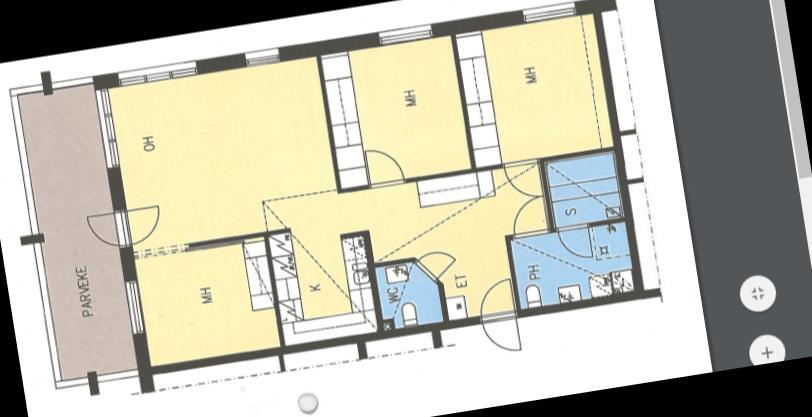door: (116, 198, 165, 248), (82, 205, 130, 256), (504, 193, 554, 241), (472, 274, 519, 324), (360, 142, 410, 189), (500, 153, 548, 201), (478, 310, 524, 356), (411, 246, 461, 286), (554, 218, 597, 262)
window: (92, 82, 124, 173), (116, 56, 200, 90), (374, 19, 436, 48), (518, 0, 580, 27), (122, 274, 148, 337), (238, 42, 284, 68)
